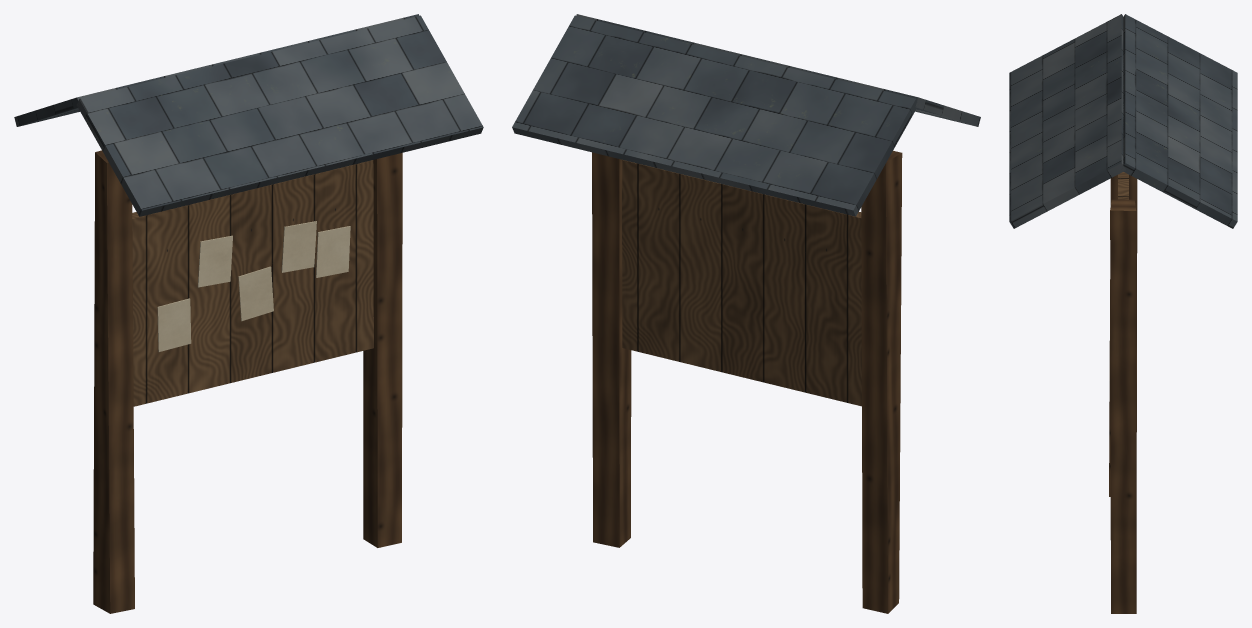
The model's file is NoticeBoard.fbx.
The picture shows the model from 3 angles, left to right: view 1: azimuth 30°, elevation 25°; view 2: azimuth 150°, elevation 25°; view 3: azimuth 270°, elevation 25°; orthographic projection. The views are drawn at different scales.
Visible parts, largest first — view 1: NoticeBoard; view 2: NoticeBoard; view 3: NoticeBoard.
Part boxes in pixels (x1=…): NoticeBoard: x1=14, y1=14, x2=483, y2=613; NoticeBoard: x1=512, y1=14, x2=980, y2=613; NoticeBoard: x1=1009, y1=14, x2=1237, y2=613.
Bounding box in the file's own units: 1.9 × 2.75 × 1.23.
